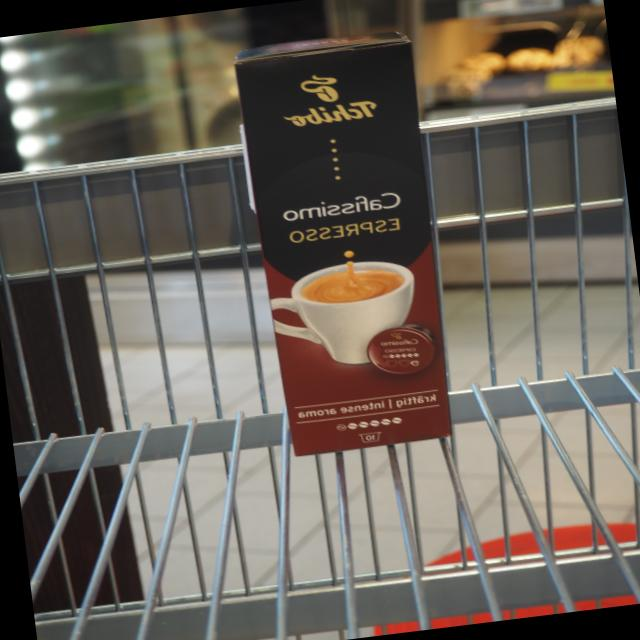Simo Es Kraft: (229, 33, 456, 459)
